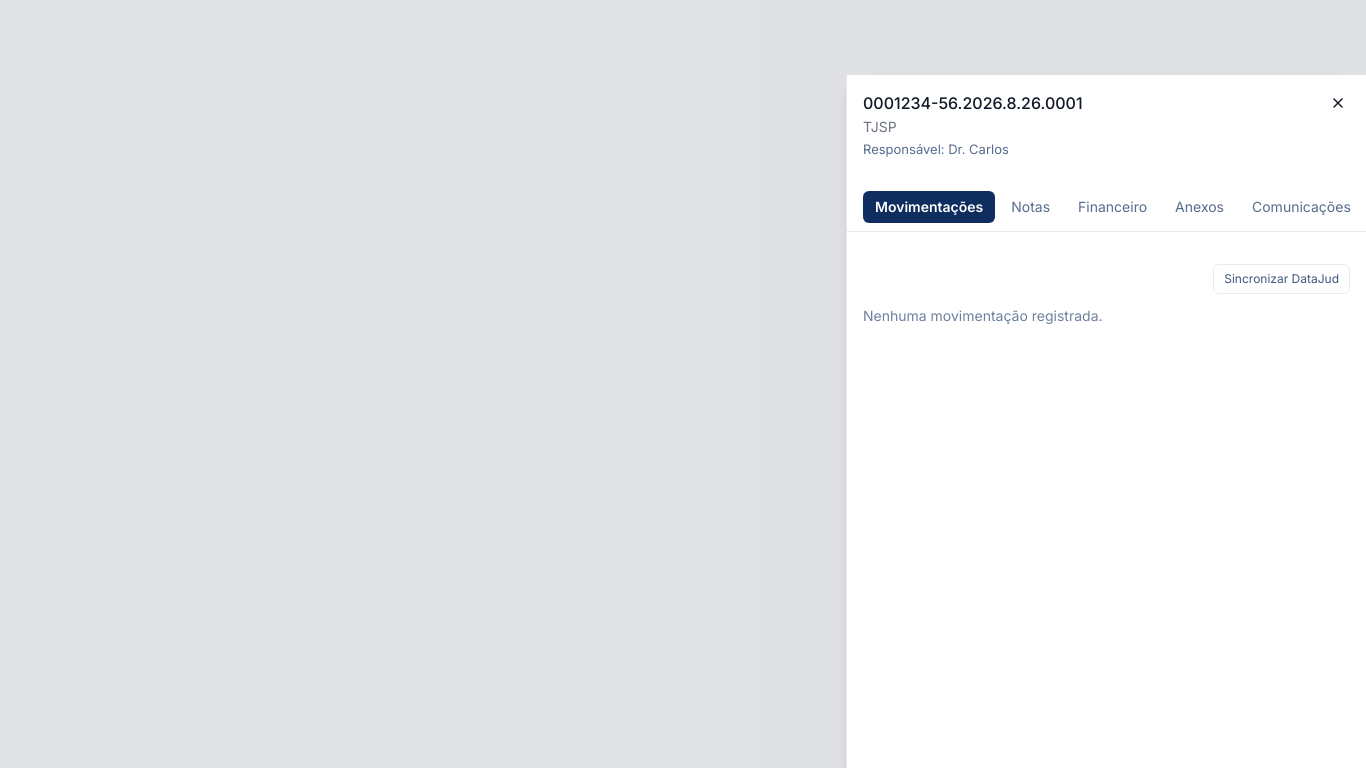
Test: Aba Comunicações — histórico › exibe ícone correto para canal whatsapp
Click the button "Comunicações". click: click(1301, 207)
box: [1240,191,1363,223]
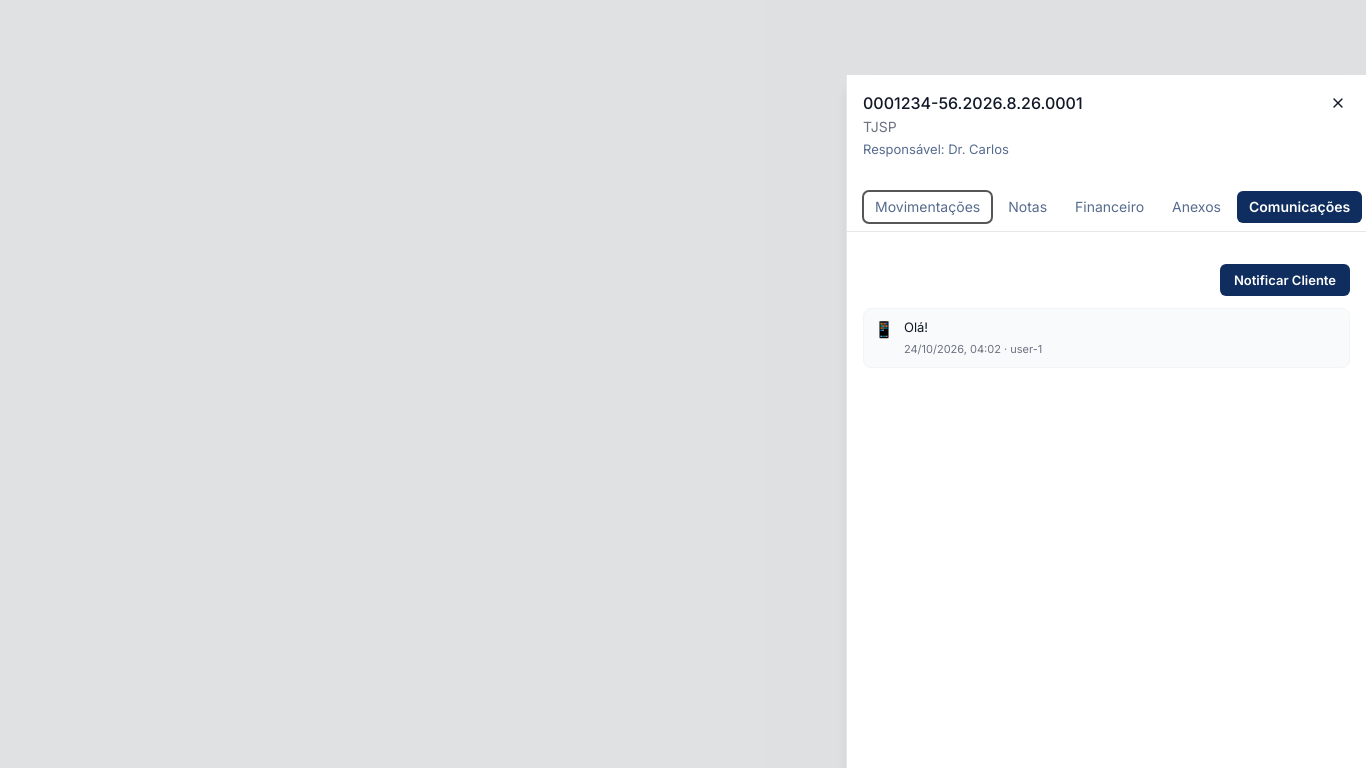
Check: the text named "whatsapp" reads "📱", box [874,319,894,339]
